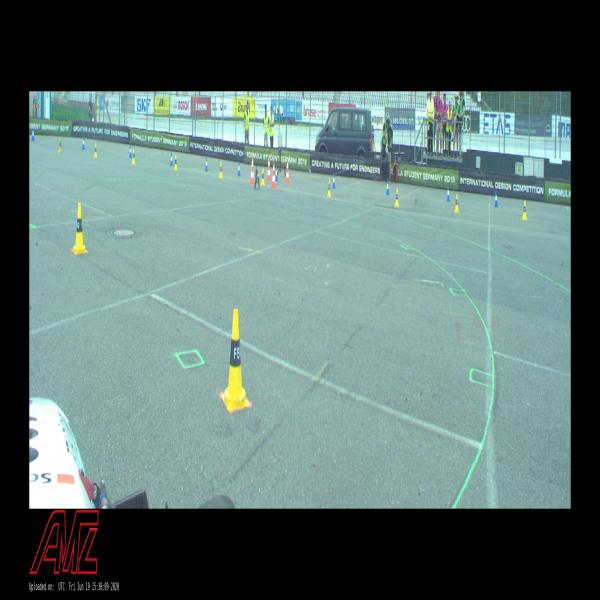blue_cone: (494, 190, 498, 208), (446, 186, 450, 202), (386, 180, 390, 196), (237, 162, 241, 176), (31, 128, 35, 141), (332, 173, 335, 189), (205, 157, 208, 172), (170, 153, 173, 167), (82, 137, 85, 150), (129, 145, 132, 158), (276, 166, 278, 182)
large_orange_cone: (249, 156, 255, 184), (266, 156, 272, 180), (285, 159, 290, 183), (272, 160, 276, 188)
yellow_cone: (222, 308, 249, 412), (72, 203, 87, 254), (454, 193, 459, 213), (522, 201, 527, 220), (394, 189, 399, 208), (131, 148, 136, 165), (327, 179, 331, 198), (261, 167, 265, 186), (174, 154, 178, 172), (218, 161, 222, 179), (58, 137, 62, 153), (94, 142, 98, 158)
